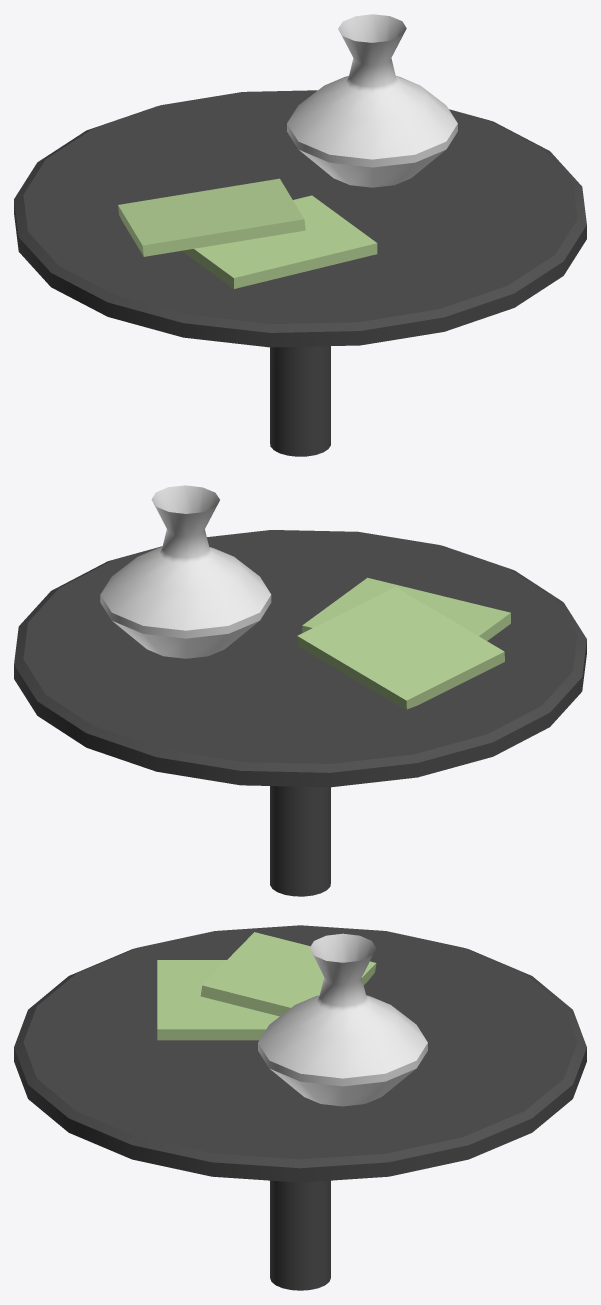
The model's file is magazine_table_01.fbx.
The picture shows the model from 3 angles, top to bottom: view 1: azimuth 30°, elevation 25°; view 2: azimuth 150°, elevation 25°; view 3: azimuth 270°, elevation 25°; orthographic projection.
Visible parts, largest first — view 1: pCylinder105, pCylinder103, pCube270, pCube269, pCylinder104; view 2: pCylinder105, pCylinder103, pCube270, pCylinder104, pCube269; view 3: pCylinder105, pCylinder103, pCube270, pCylinder104, pCube269.
Boxes of the visible parts, <box> form: pCylinder105: <box>14,90,586,347</box>; pCylinder103: <box>287,14,457,187</box>; pCube270: <box>118,178,305,256</box>; pCube269: <box>182,195,377,288</box>; pCylinder104: <box>270,346,330,456</box>; pCylinder105: <box>14,530,586,787</box>; pCylinder103: <box>100,485,271,658</box>; pCube270: <box>297,587,504,709</box>; pCylinder104: <box>270,786,330,896</box>; pCube269: <box>302,577,510,640</box>; pCylinder105: <box>14,925,586,1182</box>; pCylinder103: <box>258,933,427,1106</box>; pCube270: <box>200,932,376,1016</box>; pCylinder104: <box>270,1180,330,1290</box>; pCube269: <box>157,960,279,1040</box>.
Bounding box in the file's own units: 6.78 × 4.89 × 6.78.
